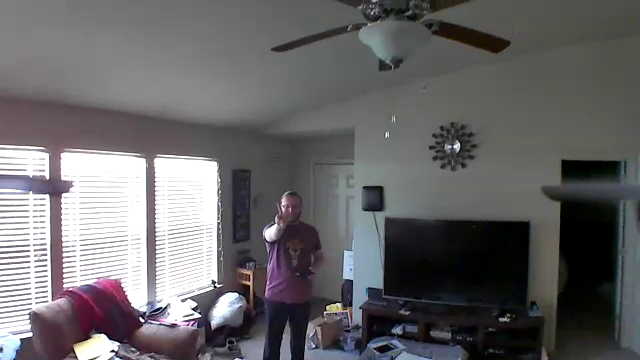peace: (269, 199, 294, 232)
